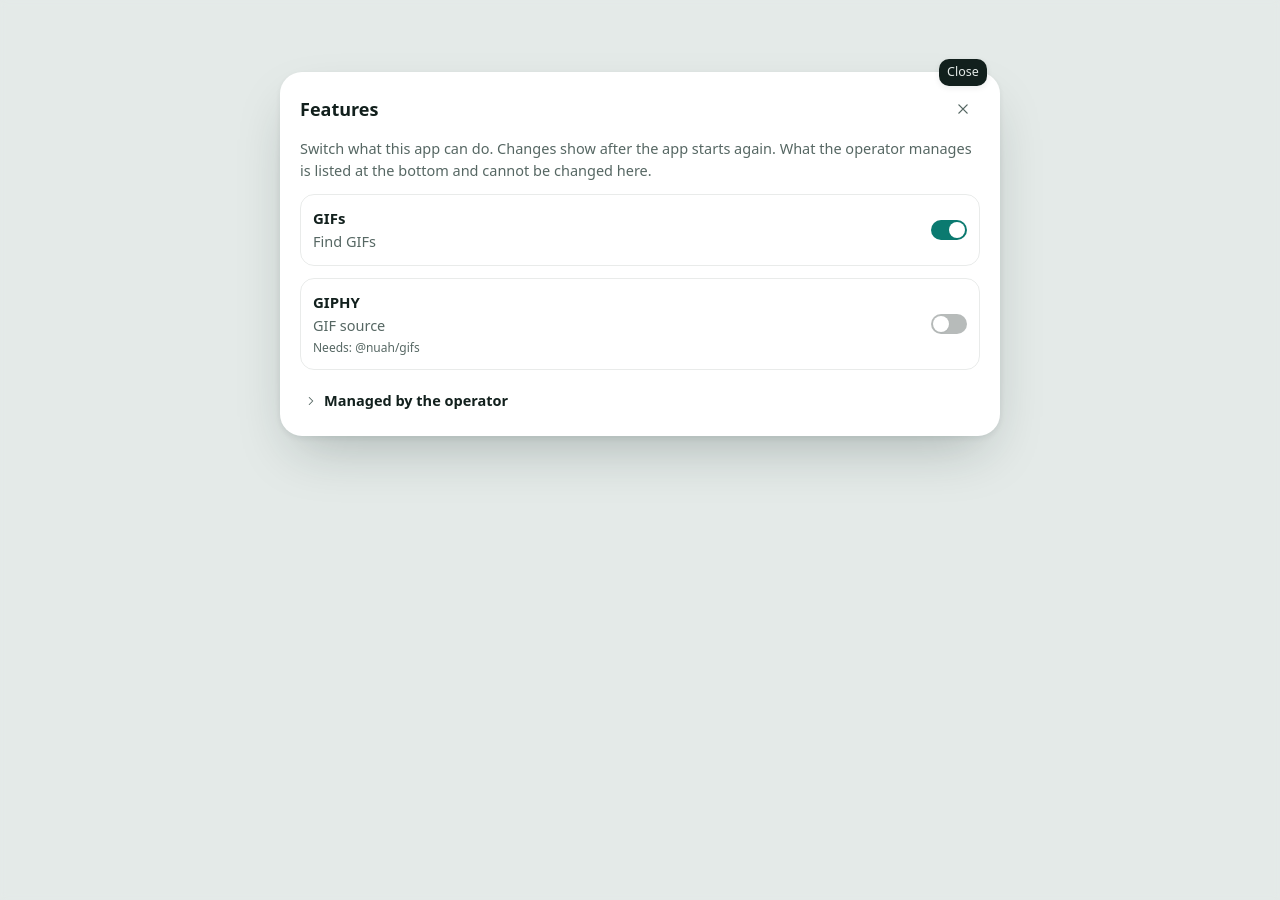
Test: the Features page › shows features as cards, themes not at all, and platform plugins read-only with the reason
Expected: the heading "GIFs" is shown, [313, 208, 345, 228]
Expected: the heading "GIPHY" is shown, [313, 292, 360, 312]
Click the button "Managed by the operator" at (416, 400), box [300, 386, 980, 416]
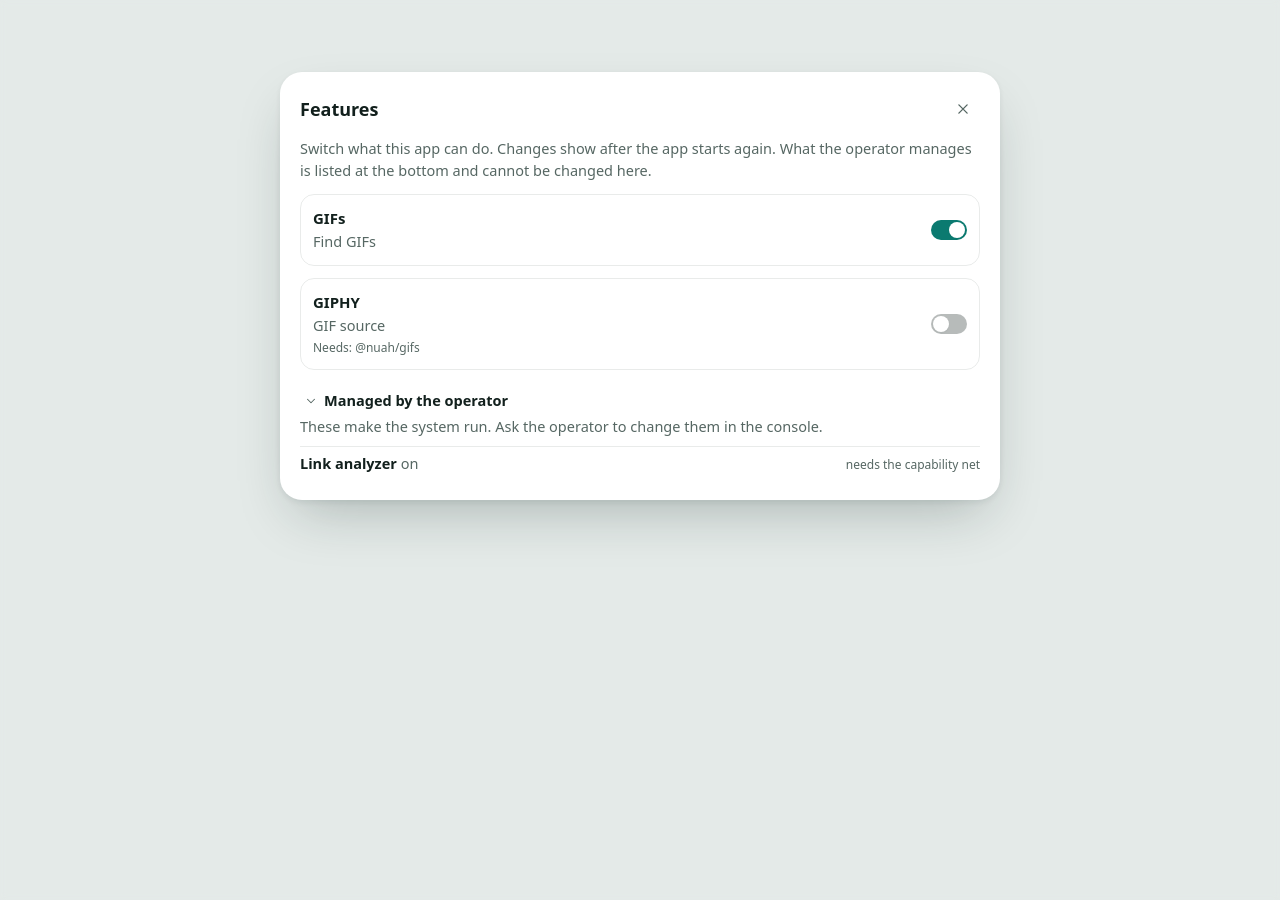
Expected: the text "needs the capability net" is shown, [846, 456, 980, 474]
